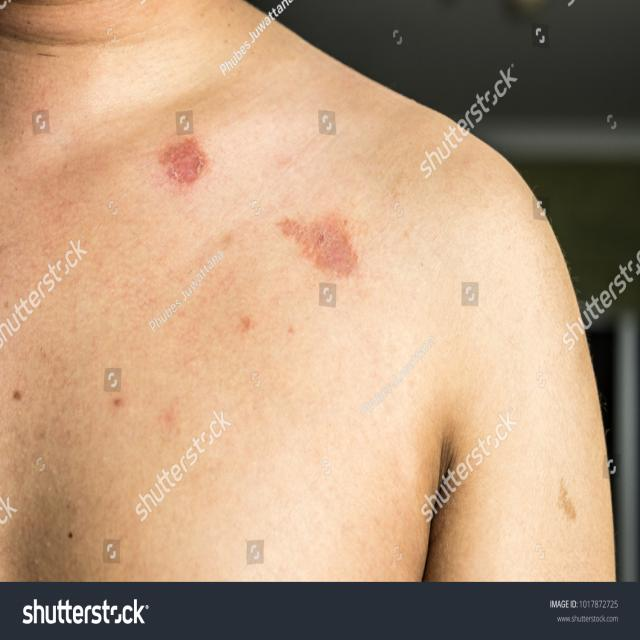eczema: (240, 140, 381, 306), (134, 75, 240, 255)
